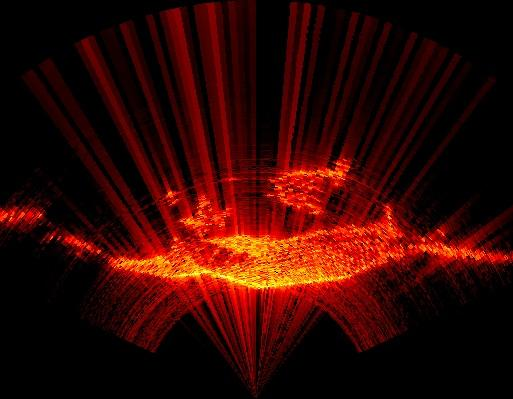shipwreck: (4, 157, 505, 288)
